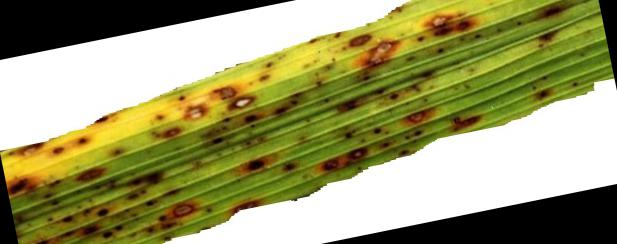brown_spot: (71, 15, 485, 231)
